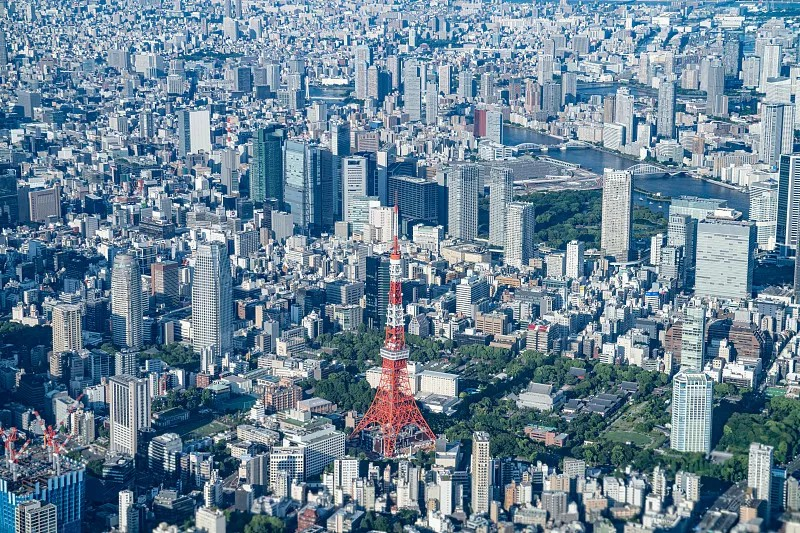Tokyo: (347, 204, 437, 458)
